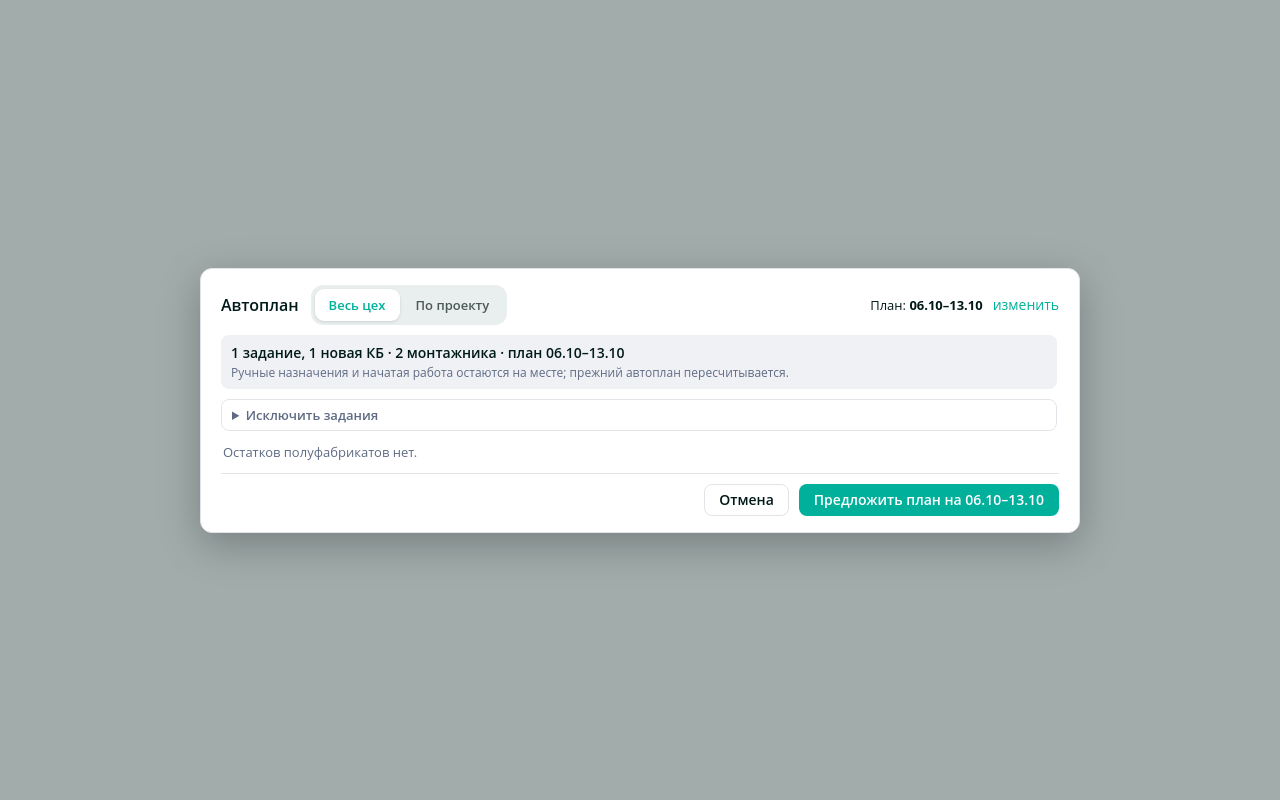
Test: excludes tasks and new КБ from the whole-shop plan in a collapsed list
Step 1. Click the heading "Исключить задания" → (312, 414), box [246, 406, 378, 424]
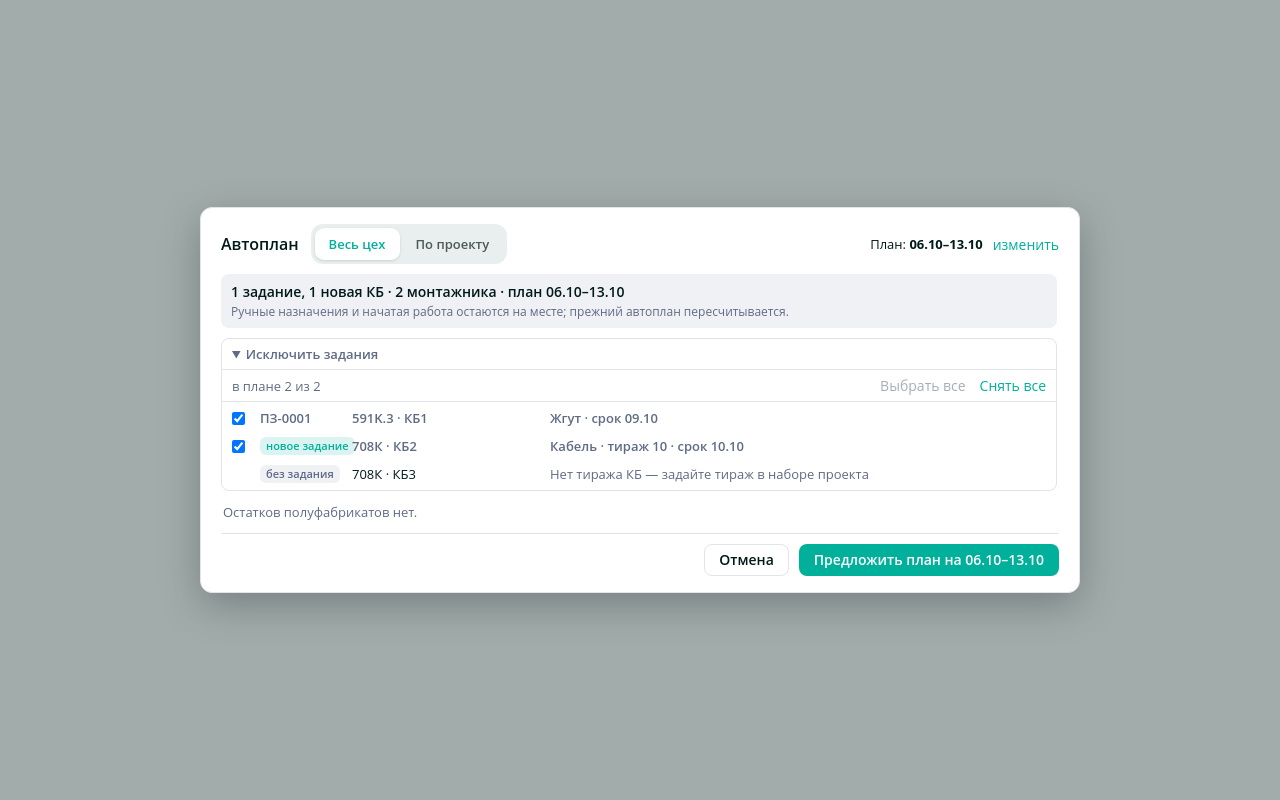
Expected: the text "в плане 2 из 2" is shown, [232, 376, 321, 394]
Expected: the text "Нет тиража КБ — задайте тираж в наборе проекта" is shown, [550, 465, 869, 483]
Step 2. Click the checkbox named "ПЗ-0001 · 591K.3 · КБ1" → (238, 418), box [232, 412, 245, 424]
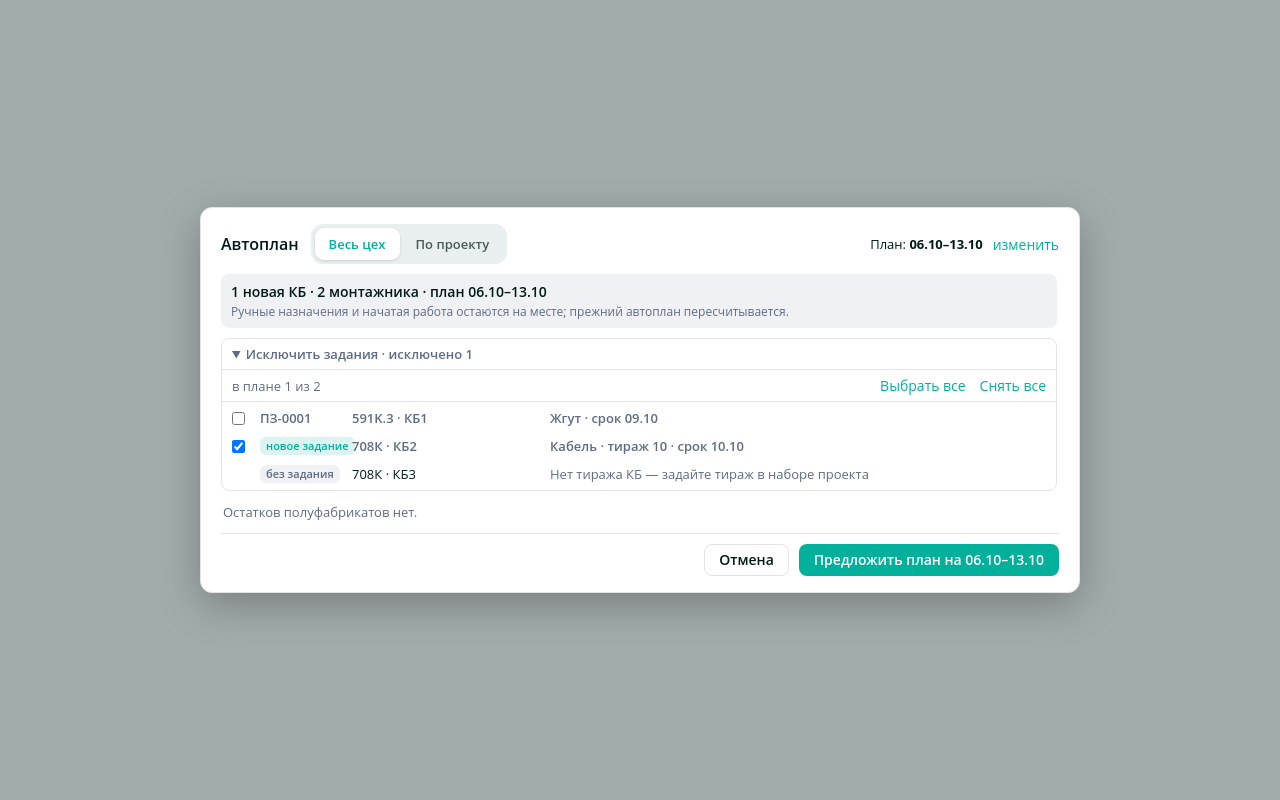
Step 3. Click the checkbox named "708К · КБ2 · новое задание" → (238, 446), box [232, 440, 245, 452]
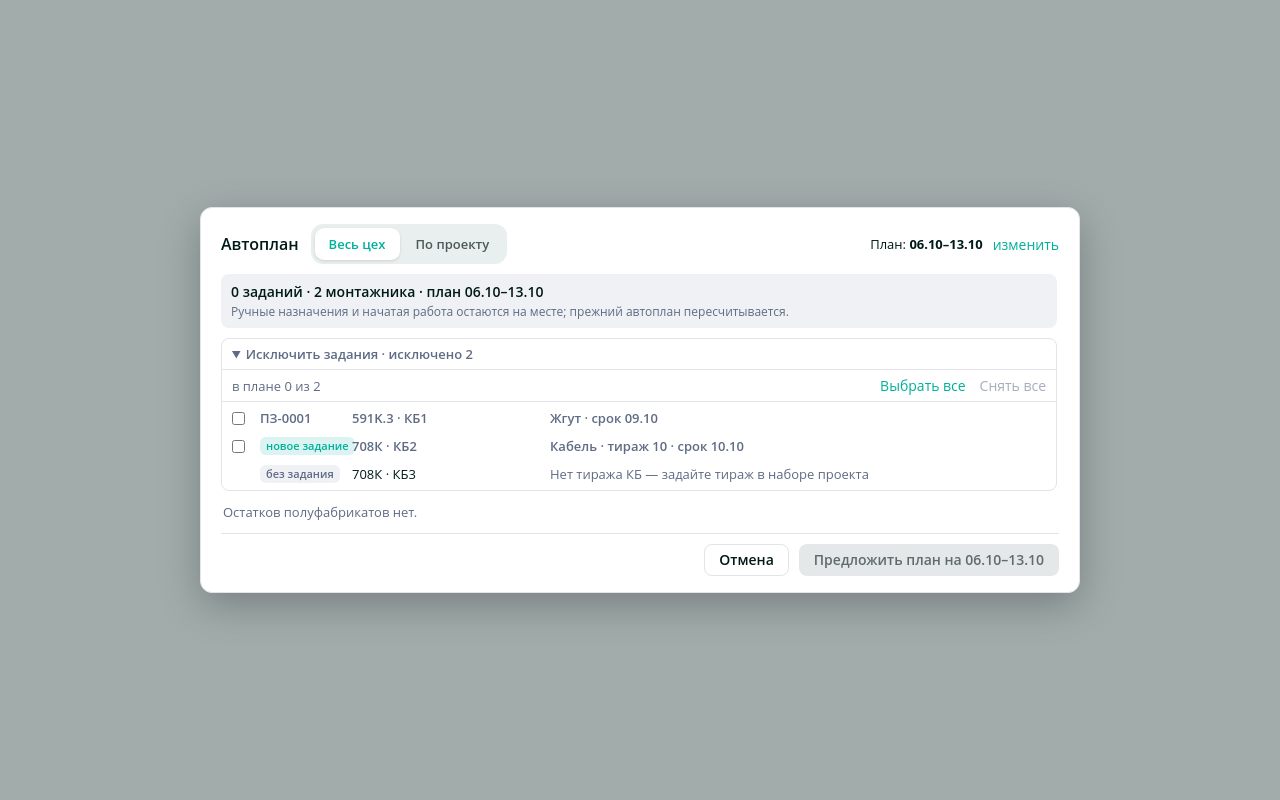
Expected: the text "в плане 0 из 2" is shown, [232, 376, 321, 394]
Expected: the button "Предложить план на 06.10–13.10" is disabled, [799, 544, 1059, 576]
Step 4. Click the button "Выбрать все" → (923, 386), box [880, 376, 966, 395]
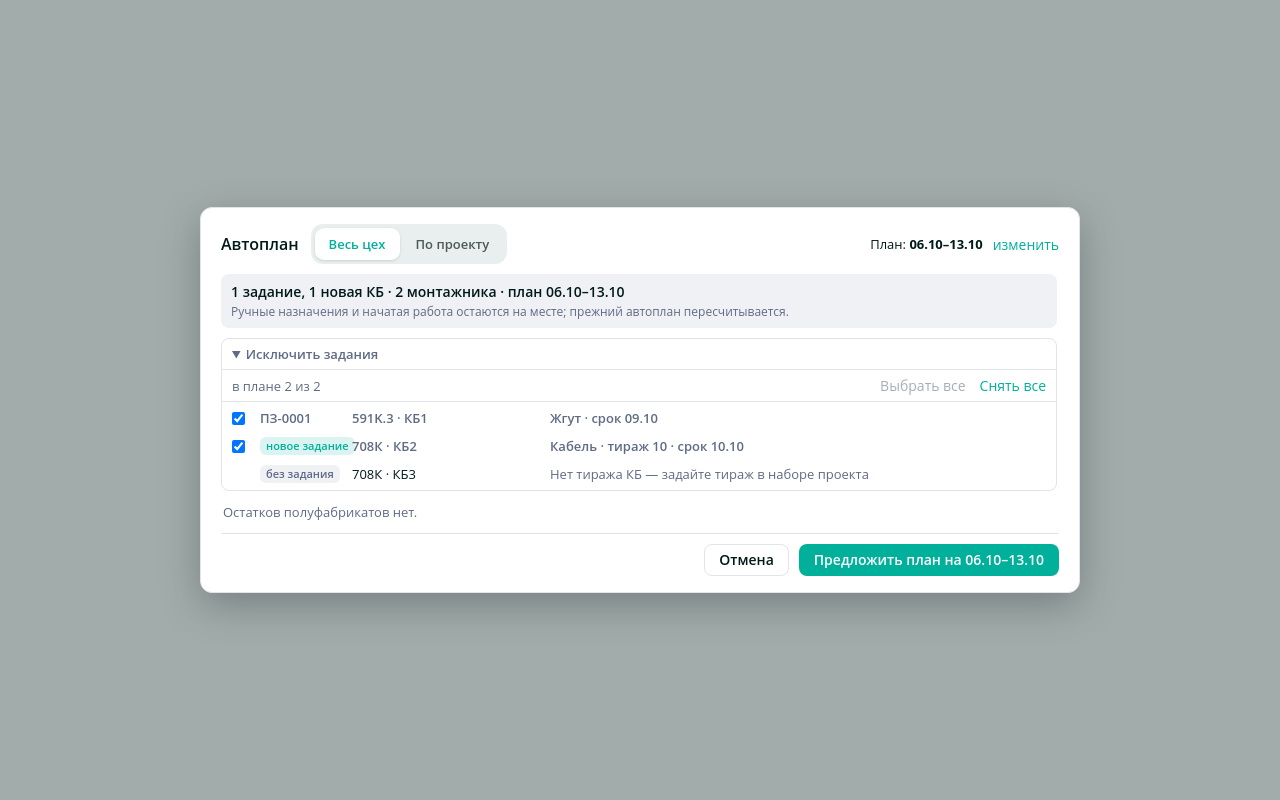
Step 5. Click the checkbox named "708К · КБ2 · новое задание" → (238, 446), box [232, 440, 245, 452]
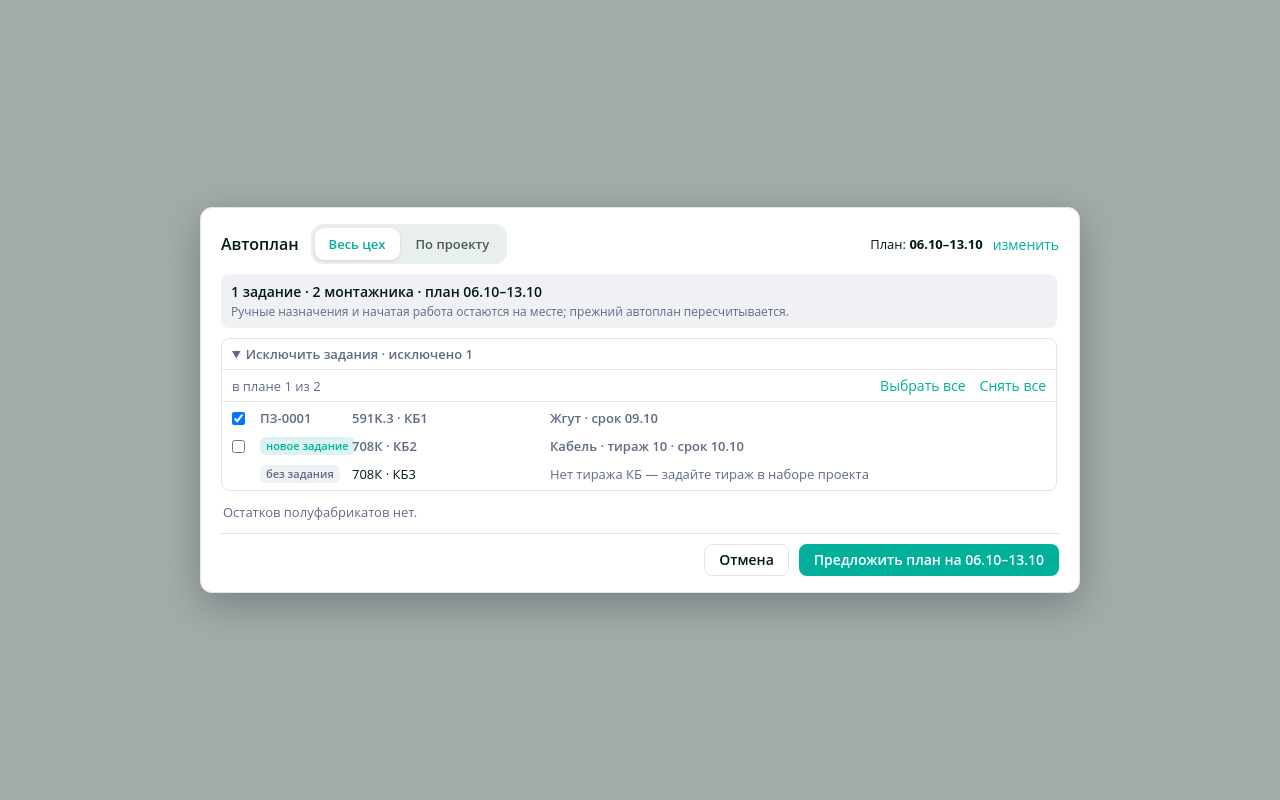
Expected: the text "1 задание · 2 монтажника · план 06.10–13.10" is shown, [231, 282, 542, 301]
Step 6. Click the button "Предложить план на 06.10–13.10" → (929, 560), box [799, 544, 1059, 576]
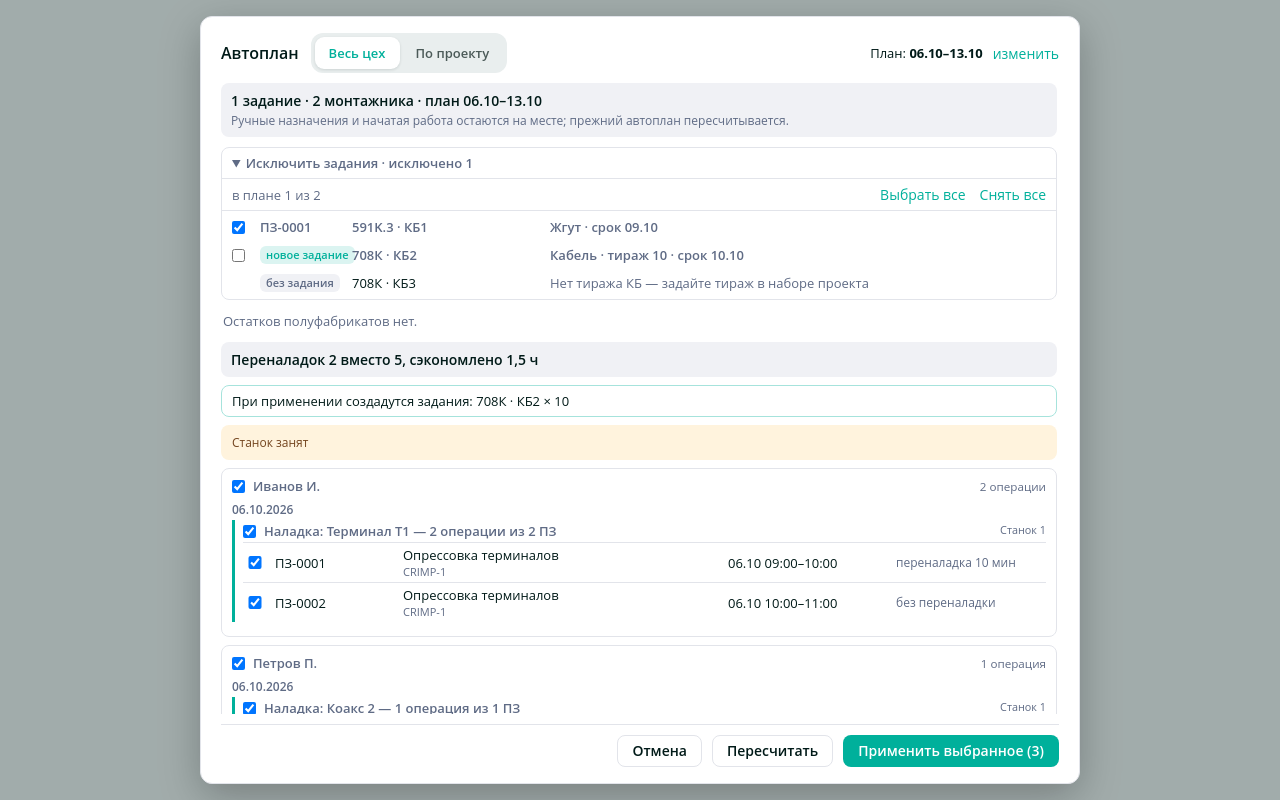
Expected: the text "Переналадок 2 вместо 5, сэкономлено 1,5 ч" is shown, [221, 342, 1057, 377]
